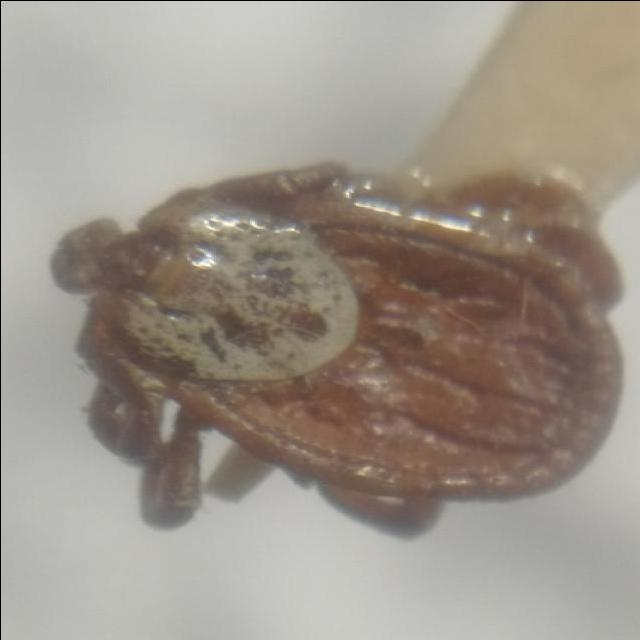Dermacentor Reticulatus-F: (49, 164, 625, 540)
